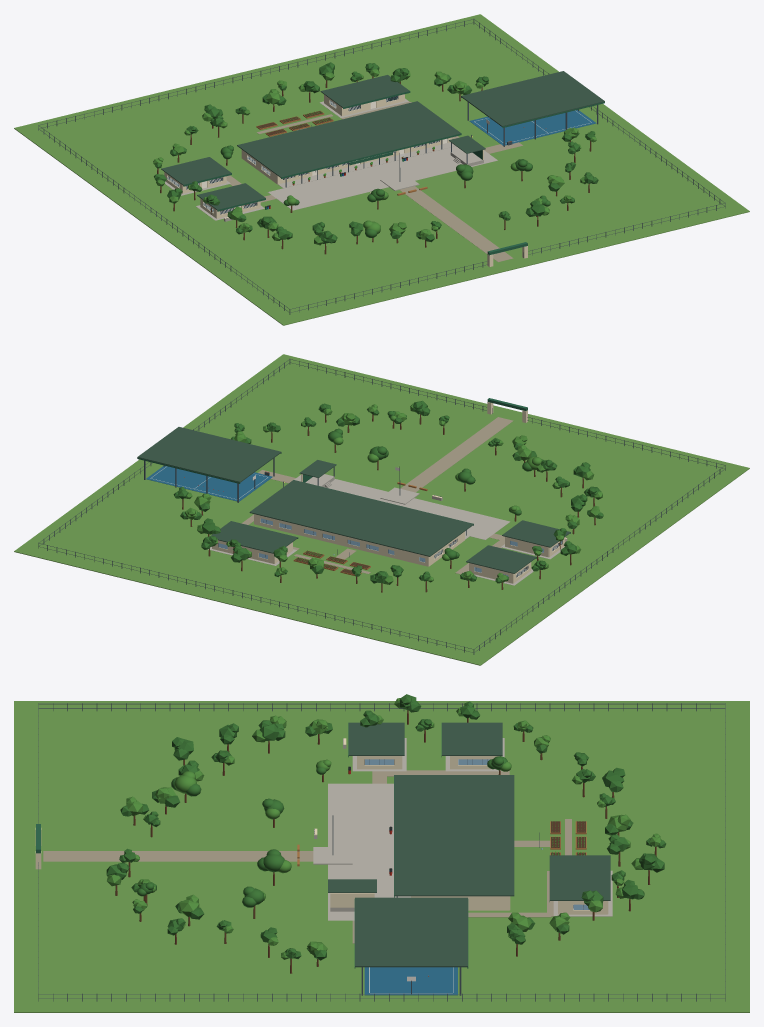
File: katuro-university.glb
3 views of the same model, one above another, from view 1: azimuth 30°, elevation 25°; view 2: azimuth 150°, elevation 25°; view 3: azimuth 270°, elevation 25° (orthographic). The views are drawn at different scales.
Visible parts, largest first — view 1: grass, roof, concrete, leaf, metal, leaf2, path, wall, court, trim, trunk, glass; view 2: grass, roof, leaf, metal, wall, concrete, leaf2, path, court, glass, trunk; view 3: grass, roof, leaf, concrete, leaf2, metal, path, wall, court, trunk.
Boxes of the visible parts, box(x1,y1,x2,y2) form: grass: box(14, 14, 749, 325); roof: box(161, 71, 604, 210); concrete: box(165, 98, 497, 221); leaf: box(154, 62, 598, 243); metal: box(38, 19, 725, 314); leaf2: box(153, 69, 596, 245); path: box(226, 101, 522, 262); wall: box(164, 94, 527, 266); court: box(469, 110, 596, 145); trim: box(183, 91, 604, 255); trunk: box(157, 76, 591, 254); glass: box(167, 96, 439, 214); grass: box(14, 354, 749, 665); roof: box(137, 427, 570, 573); leaf: box(173, 400, 603, 583); metal: box(38, 359, 725, 654); wall: box(212, 402, 567, 583); concrete: box(208, 474, 567, 585); leaf2: box(185, 403, 602, 584); path: box(241, 417, 513, 574); court: box(146, 466, 272, 501); glass: box(218, 518, 562, 577); trunk: box(182, 414, 595, 592); grass: box(14, 701, 749, 1012); roof: box(328, 722, 610, 967); leaf: box(106, 694, 666, 960); concrete: box(313, 738, 612, 920); leaf2: box(107, 698, 661, 959); metal: box(38, 703, 725, 1001); path: box(43, 770, 571, 943); wall: box(35, 738, 608, 914); court: box(364, 967, 457, 995); trunk: box(115, 710, 656, 973).
Size of what is drawn, in the model's own units: 150 by 9.45 by 150.
